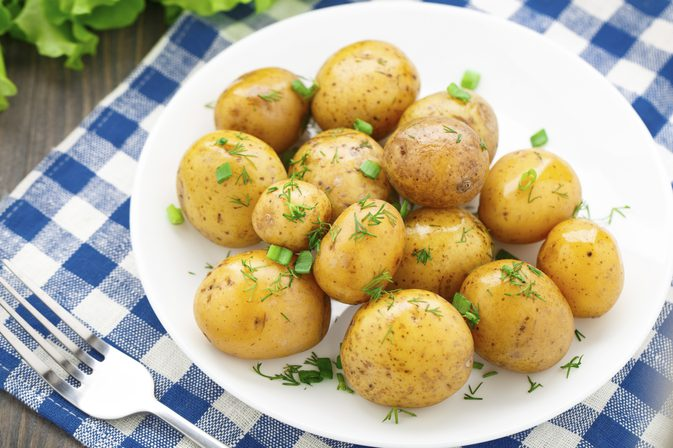boiled potatoes: (160, 121, 335, 249), (342, 287, 480, 416), (454, 254, 579, 386), (195, 254, 335, 361), (386, 81, 497, 205), (316, 182, 407, 313), (309, 35, 426, 136), (477, 134, 587, 241), (533, 213, 626, 327), (394, 199, 490, 294), (213, 67, 310, 154)
